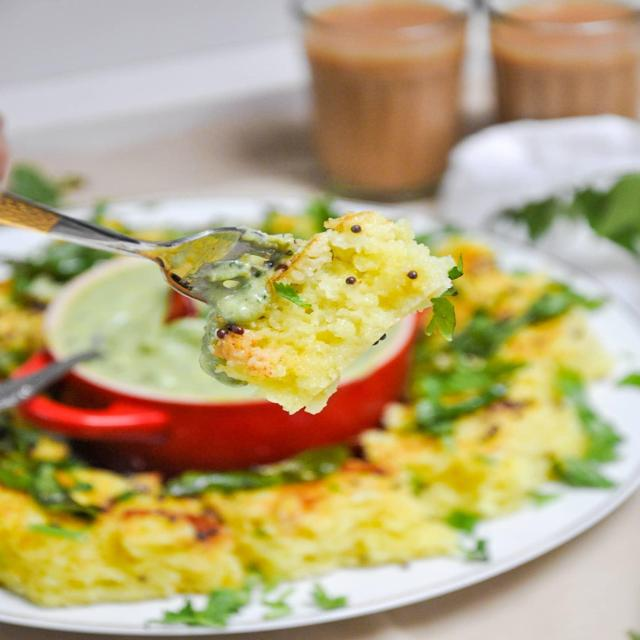dhokla: (0, 458, 629, 598), (198, 204, 428, 398)
